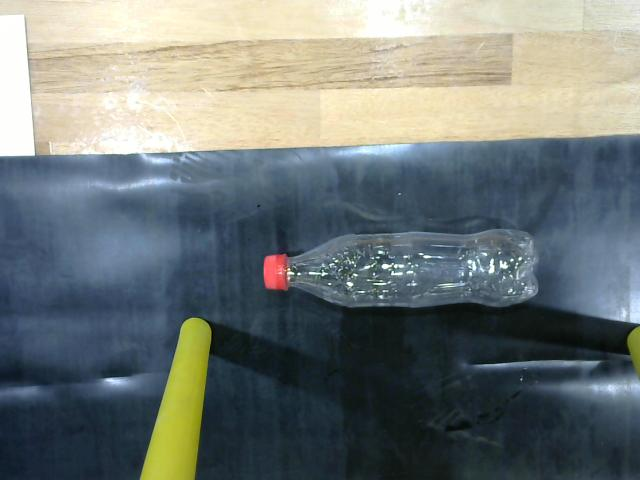bottle: (253, 216, 556, 316)
